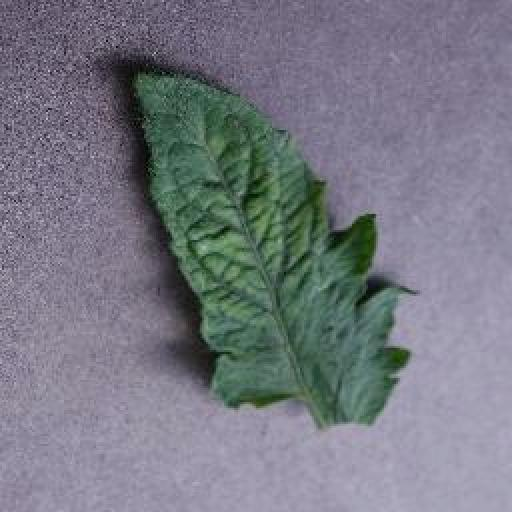Mosaic Virus: (125, 68, 423, 434)
